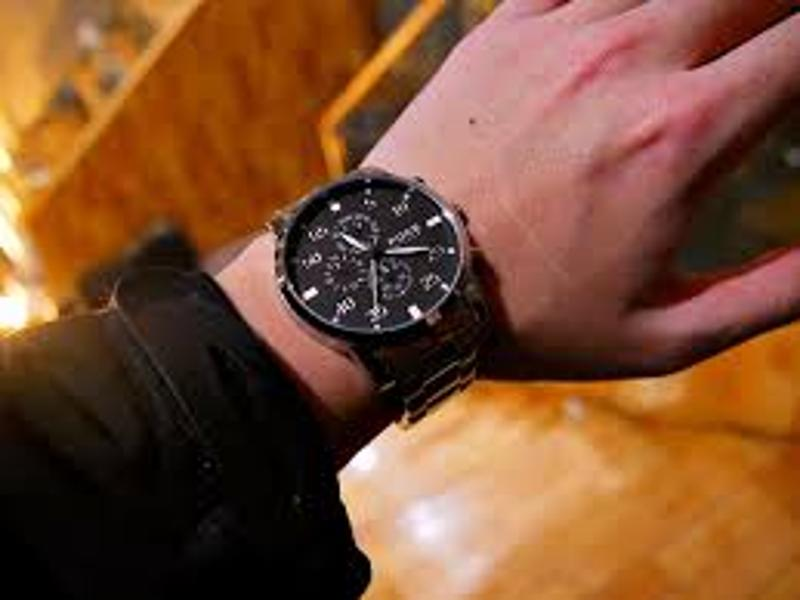watch: (260, 166, 485, 432)
